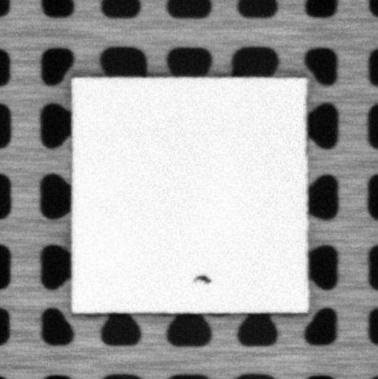DIE_INK: (193, 273, 211, 284)
